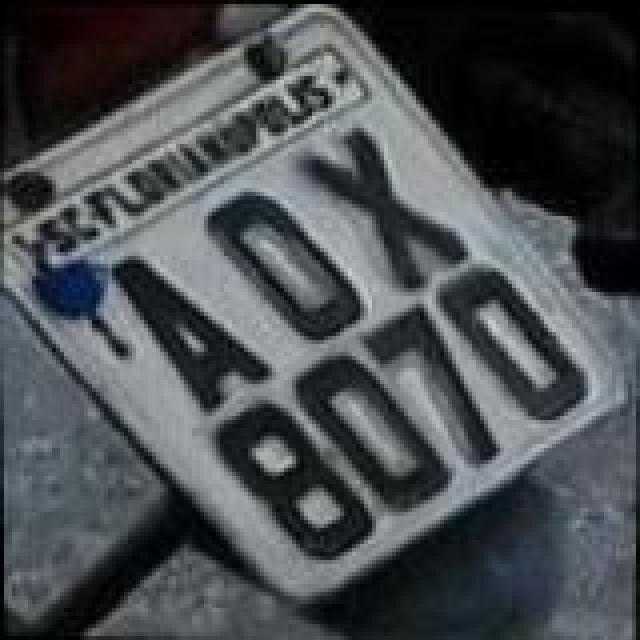7: (356, 298, 512, 470)
8: (210, 396, 386, 572)
A: (102, 246, 282, 418)
O: (286, 350, 462, 522), (200, 186, 376, 350), (428, 256, 596, 420)
X: (288, 118, 476, 294)
